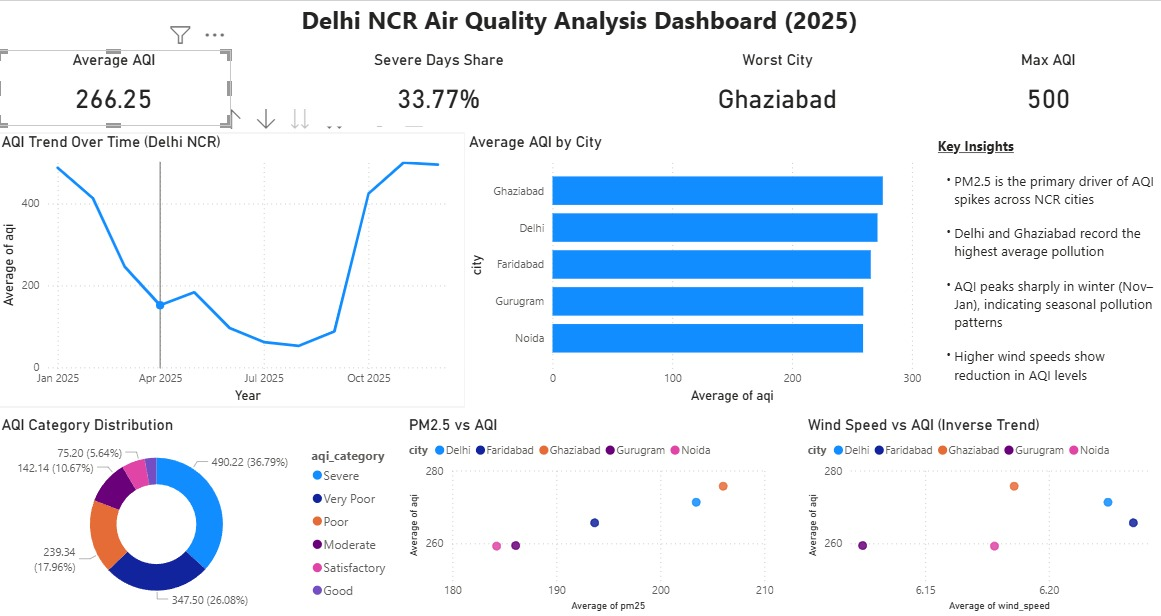

The page's visual inventory and layout, read from the dashboard file:
{"tool":"powerbi","page":{"name":"Delhi NCR Air Quality Dashboard","canvas":[1280,720],"ordinal":0},"visuals":[{"type":"lineChart","title":"AQI Trend Over Time (Delhi NCR)","fields":{"Category":["delhincr_aqi_dataset.date.Variation.Date Hierarchy.Year","delhincr_aqi_dataset.date.Variation.Date Hierarchy.Quarter","delhincr_aqi_dataset.date.Variation.Date Hierarchy.Month","delhincr_aqi_dataset.date.Variation.Date Hierarchy.Day"],"Y":["Avg(delhincr_aqi_dataset.aqi)"]},"box":[0,189.4,513.2,301.9],"z":0},{"type":"card","title":"Average AQI","fields":{"Values":["Avg(delhincr_aqi_dataset.aqi)"]},"box":[0,98.8,256.6,83.7],"z":1000},{"type":"card","title":"Severe Days Share","fields":{"Values":["delhincr_aqi_dataset.Severe_Percentage"]},"box":[356.8,98.3,256.6,83.7],"z":2000},{"type":"clusteredBarChart","title":"Average AQI by City","fields":{"Category":["delhincr_aqi_dataset.city"],"Y":["Avg(delhincr_aqi_dataset.aqi)"]},"box":[513.2,189.4,506.3,301.9],"z":3000},{"type":"donutChart","title":"AQI Category Distribution","fields":{"Category":["delhincr_aqi_dataset.aqi_category"],"Y":["Avg(delhincr_aqi_dataset.aqi)"]},"box":[0,499.5,447.3,220.9],"z":4000},{"type":"card","title":"Worst City","fields":{"Values":["delhincr_aqi_dataset.Worst_City"]},"box":[730,98.5,253.9,83.7],"z":5000},{"type":"card","title":"Max AQI","fields":{"Values":["delhincr_aqi_dataset.Max_AQI"]},"box":[1027.8,98.5,252.5,83.7],"z":6000},{"type":"scatterChart","title":"PM2.5 vs AQI","fields":{"X":["Avg(delhincr_aqi_dataset.pm25)"],"Series":["delhincr_aqi_dataset.city"],"Y":["Avg(delhincr_aqi_dataset.aqi)"]},"box":[447.3,499.5,410.3,220.9],"z":7000},{"type":"scatterChart","title":"Wind Speed vs AQI (Inverse Trend)","fields":{"X":["Avg(delhincr_aqi_dataset.wind_speed)"],"Y":["Avg(delhincr_aqi_dataset.aqi)"],"Series":["delhincr_aqi_dataset.city"]},"box":[885.1,499.5,395.2,220.9],"z":8000},{"type":"textbox","box":[1027.8,189.4,252.5,301.9],"z":9000},{"type":"textbox","box":[161.9,42.5,955.1,48],"z":10000}]}

Visuals, with their boxes on the page's 1280x720 design canvas (x1, y1, x2, y2). These are canvas units, not pixel positions in the 1161x616 screenshot, which may show the page scaled, cropped or inside an application window:
"AQI Trend Over Time (Delhi NCR)" lineChart: [left=0, top=189, right=513, bottom=491]
"Average AQI" card: [left=0, top=99, right=257, bottom=182]
"Severe Days Share" card: [left=357, top=98, right=613, bottom=182]
"Average AQI by City" clusteredBarChart: [left=513, top=189, right=1020, bottom=491]
"AQI Category Distribution" donutChart: [left=0, top=500, right=447, bottom=720]
"Worst City" card: [left=730, top=98, right=984, bottom=182]
"Max AQI" card: [left=1028, top=98, right=1280, bottom=182]
"PM2.5 vs AQI" scatterChart: [left=447, top=500, right=858, bottom=720]
"Wind Speed vs AQI (Inverse Trend)" scatterChart: [left=885, top=500, right=1280, bottom=720]
textbox: [left=1028, top=189, right=1280, bottom=491]
textbox: [left=162, top=42, right=1117, bottom=90]
